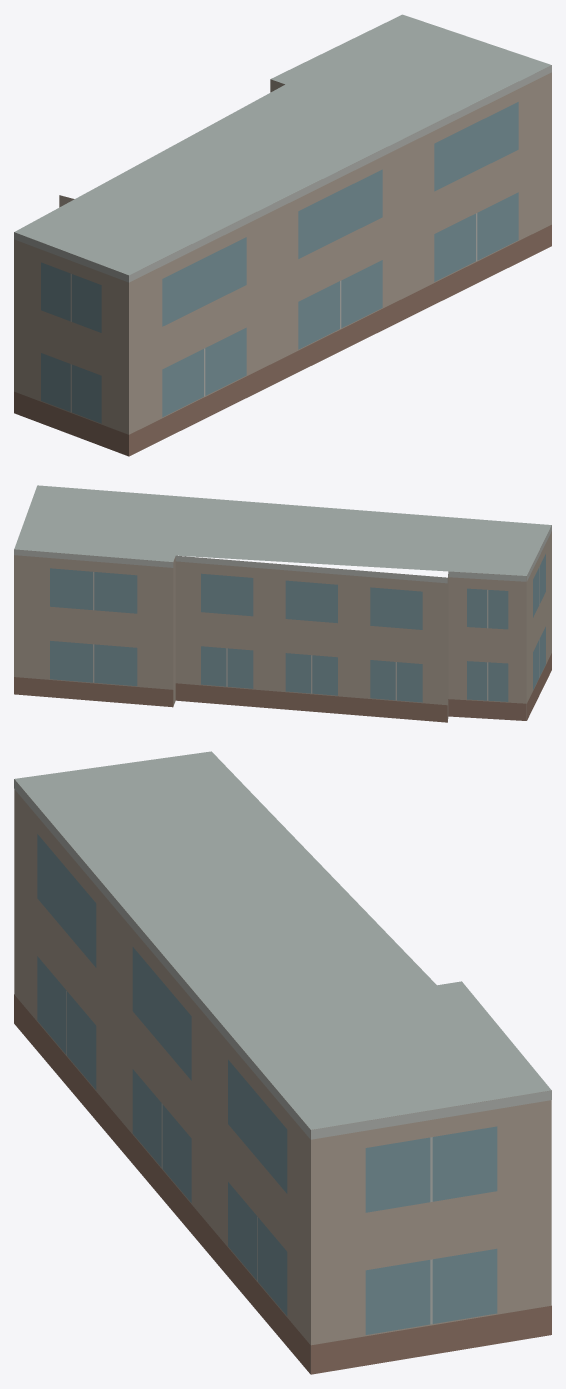
Rendered from survey-upis-32660926.glb.
3 renders of one model, top to bottom at view 1: azimuth 30°, elevation 25°; view 2: azimuth 150°, elevation 25°; view 3: azimuth 270°, elevation 25°, orthographic. The views are drawn at different scales.
Parts seen in each view (by area): view 1: survey-upis-32660926.tmp; view 2: survey-upis-32660926.tmp; view 3: survey-upis-32660926.tmp.
Part boxes in pixels (bbox=[...]): survey-upis-32660926.tmp: bbox=[14, 14, 551, 456]; survey-upis-32660926.tmp: bbox=[14, 485, 551, 722]; survey-upis-32660926.tmp: bbox=[14, 751, 551, 1374].
Bounding box in the file's own units: 20.26 × 6.1 × 12.16.
